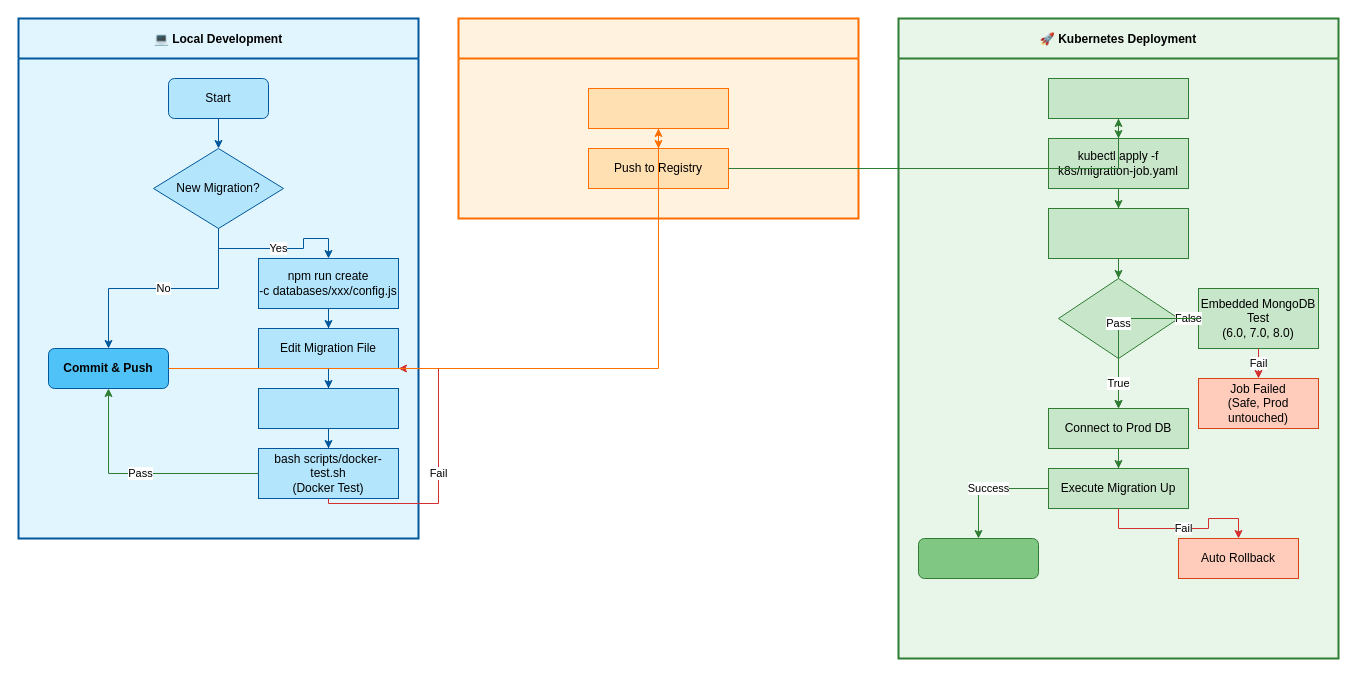
Image size: 1356x676. Some labels were removed from this diagram. Here are the shapes that lost their labels. From the top down, the box of each, then its label:
(588, 88, 728, 128): Build Docker Image
(457, 17, 859, 219): ⚙️ CI/CD Pipeline
(1048, 78, 1188, 118): Apply ConfigMap & Secret
(1048, 208, 1188, 258): Pod Start: migration-runner
(1058, 278, 1178, 358): SKIP_TESTS?
(258, 388, 398, 428): npm run validate
(918, 538, 1038, 578): Job Completed
